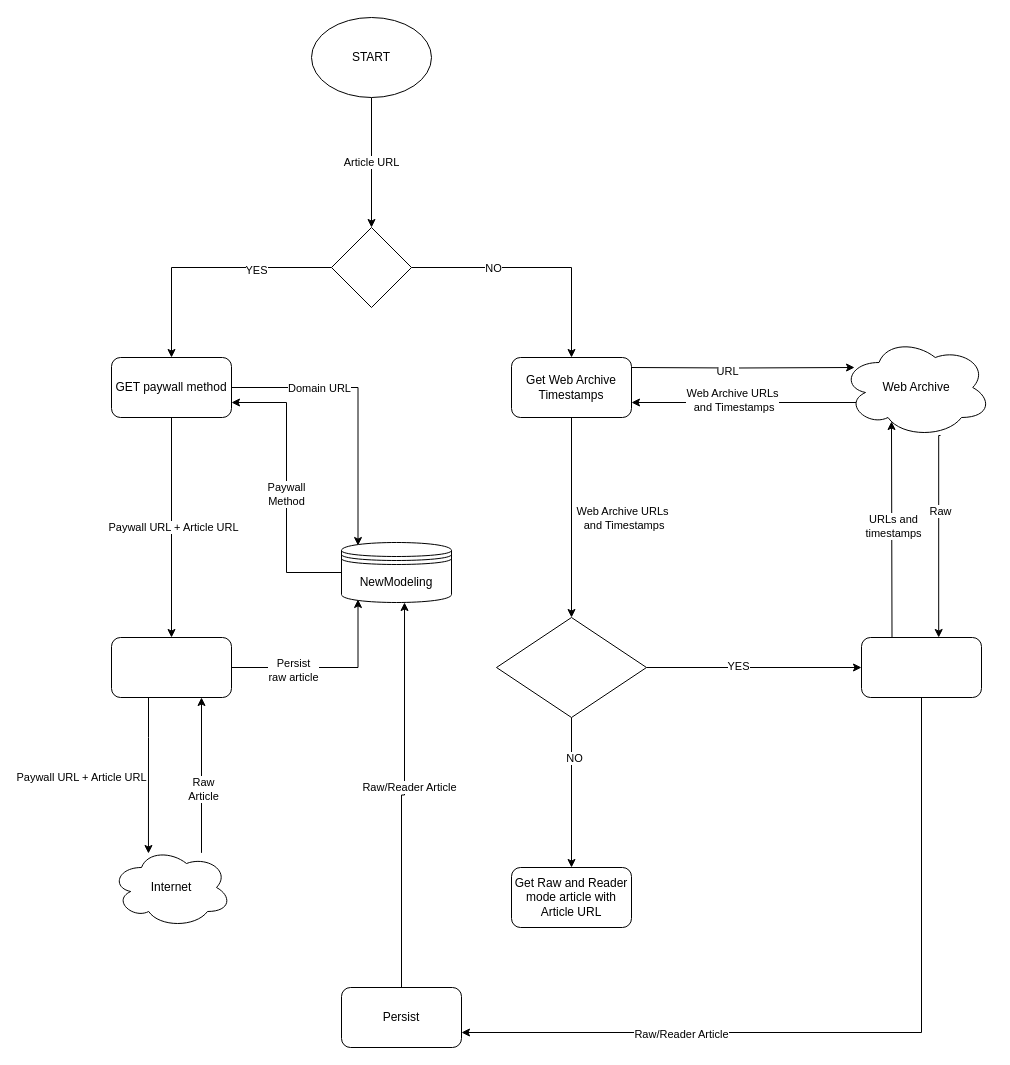
This 1010x1065 diagram has some shape labels left out. The centre of each missing label's shape, as x and y in pixels:
"Get Raw and Reader mode article with URL and timestamps" belongs at (921,667).
"Get Raw article" belongs at (171,667).
"Has paywall?" belongs at (371,267).
"Has timestamps?" belongs at (571,667).
